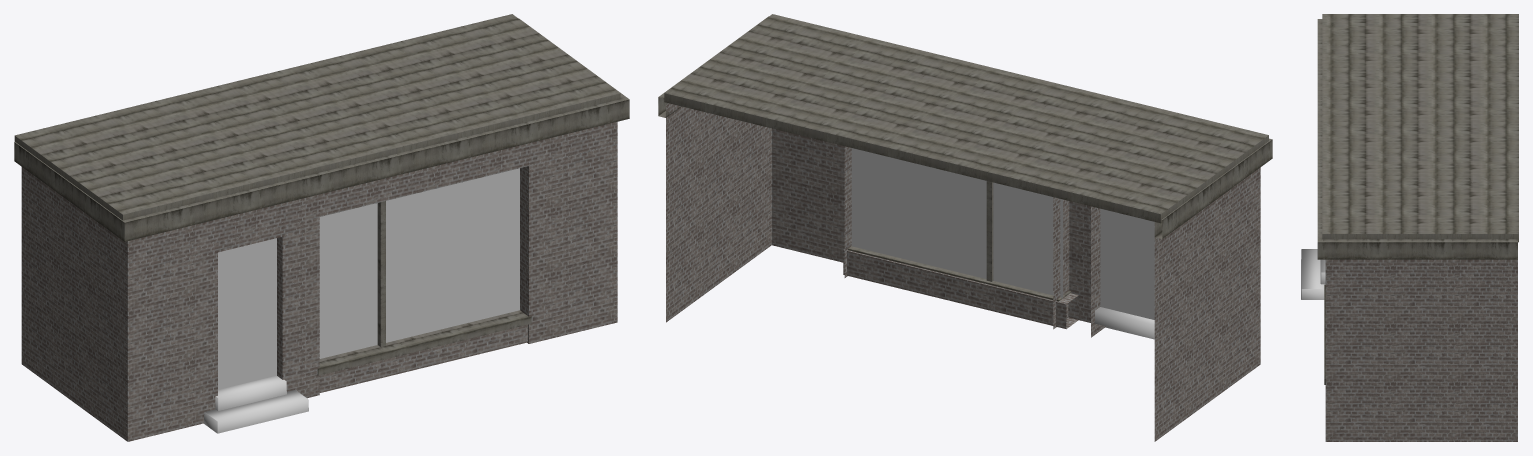
File: W_Shop_Front_A_8x_COL.FBX
3 renders of one model, left to right at view 1: azimuth 30°, elevation 25°; view 2: azimuth 150°, elevation 25°; view 3: azimuth 270°, elevation 25°, orthographic. The views are drawn at different scales.
Visible parts, largest first — view 1: W_Shop_Front_A_8x_COL; view 2: W_Shop_Front_A_8x_COL; view 3: W_Shop_Front_A_8x_COL.
Part boxes in pixels (<box>): W_Shop_Front_A_8x_COL: <box>14,14,629,441</box>; W_Shop_Front_A_8x_COL: <box>658,14,1272,441</box>; W_Shop_Front_A_8x_COL: <box>1301,14,1518,441</box>.
Size of the model in its own units: 825 by 360 by 340.
